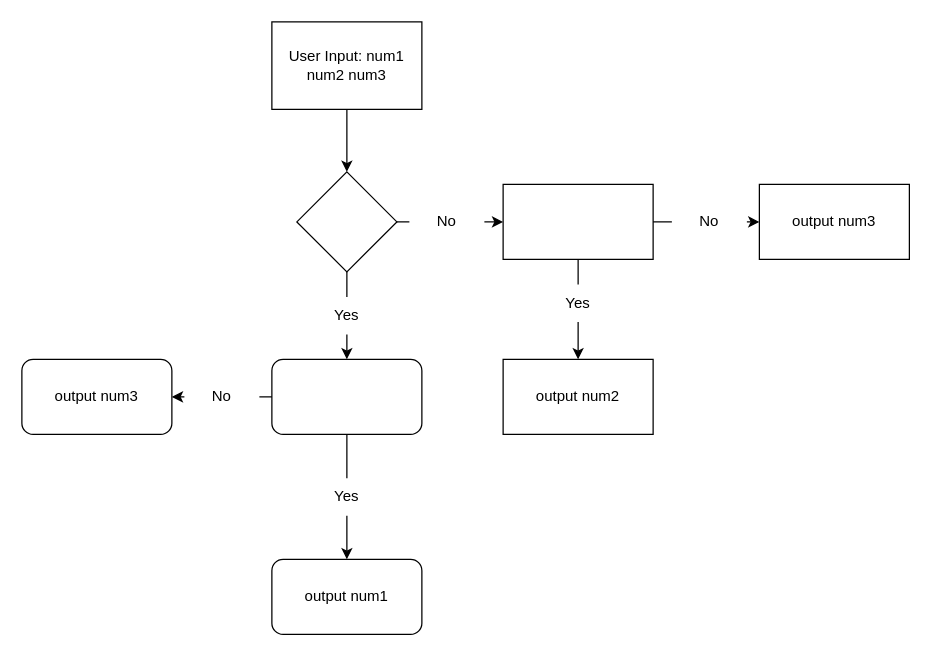
Image size: 931x656. Some labels were removed from this diagram. The shapes that lost their labels are listed below. From the top down, each one's centre as x and y in pixels, then its label:
At pixel 346 221: "num1 < num2".
At pixel 577 221: "num2 < num3".
At pixel 346 396: "num1 < num3".
